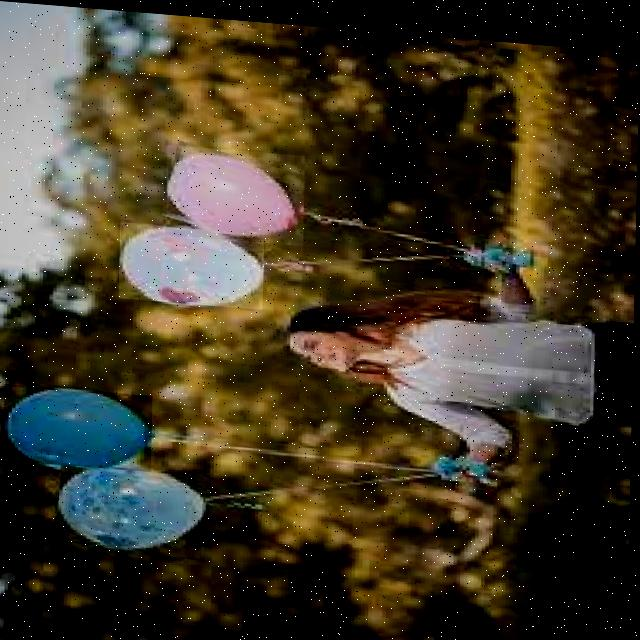balloon: (59, 459, 208, 554), (167, 141, 306, 240), (5, 383, 154, 468), (120, 219, 265, 304)
